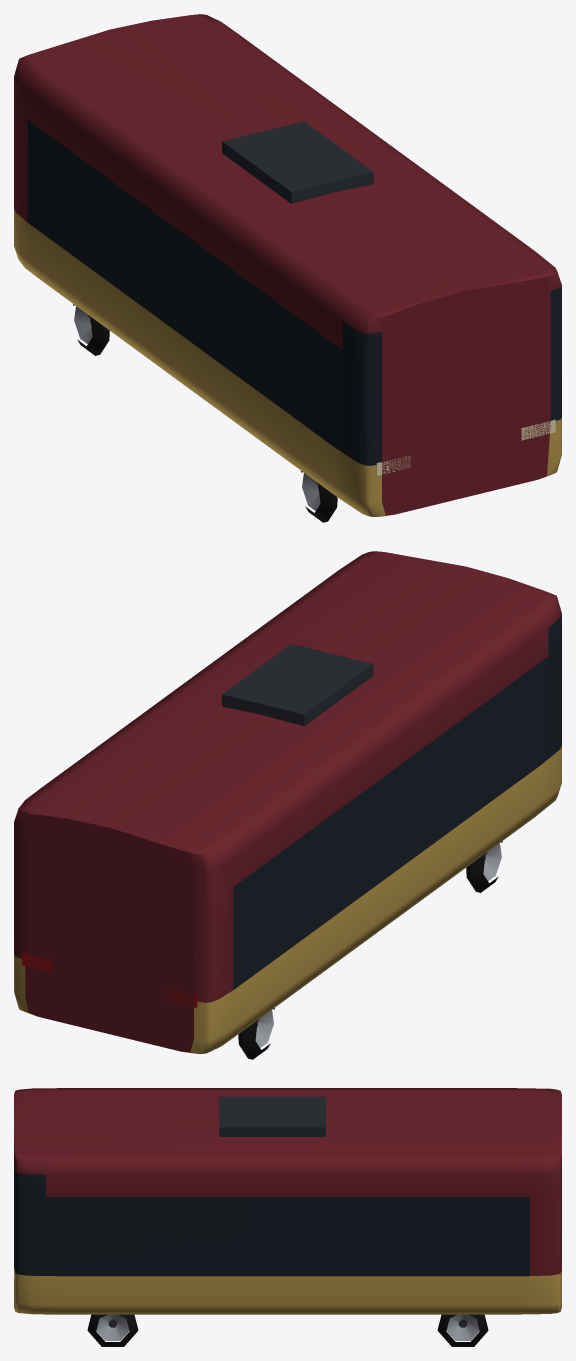
The model's file is mobile-low.glb.
3 renders of one model, top to bottom at view 1: azimuth 30°, elevation 25°; view 2: azimuth 150°, elevation 25°; view 3: azimuth 270°, elevation 25°, orthographic. The views are drawn at different scales.
Visible parts, largest first — view 1: body; view 2: body; view 3: body, rim_fl, rim_rl, tyre_fl, tyre_rl.
Boxes of the visible parts, x1=… form: body: x1=14, y1=14, x2=561, y2=516; body: x1=14, y1=551, x2=561, y2=1053; body: x1=14, y1=1088, x2=561, y2=1314; rim_fl: x1=96, y1=1314, x2=129, y2=1340; rim_rl: x1=446, y1=1314, x2=479, y2=1340; tyre_fl: x1=87, y1=1314, x2=138, y2=1346; tyre_rl: x1=437, y1=1314, x2=488, y2=1346.
Size of what is drawn, in the model's own units: 2.4 by 2.94 by 7.2.
